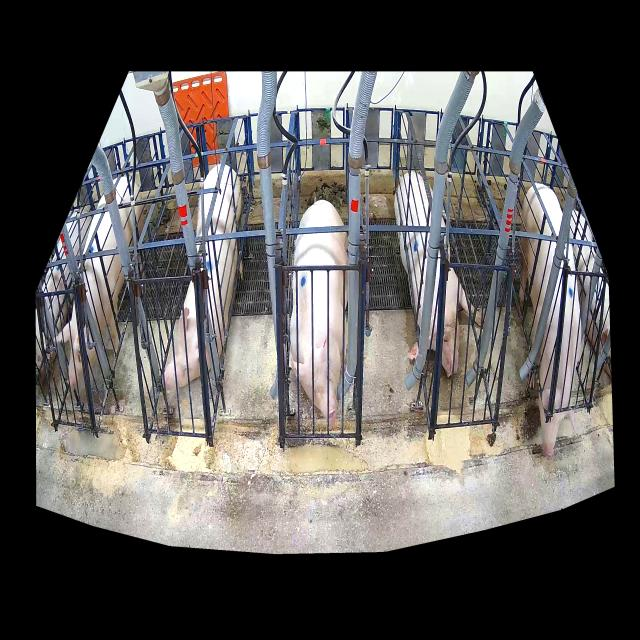pig: (395, 172, 482, 378), (164, 164, 241, 390), (63, 177, 144, 388), (520, 184, 581, 459), (290, 200, 348, 423)
